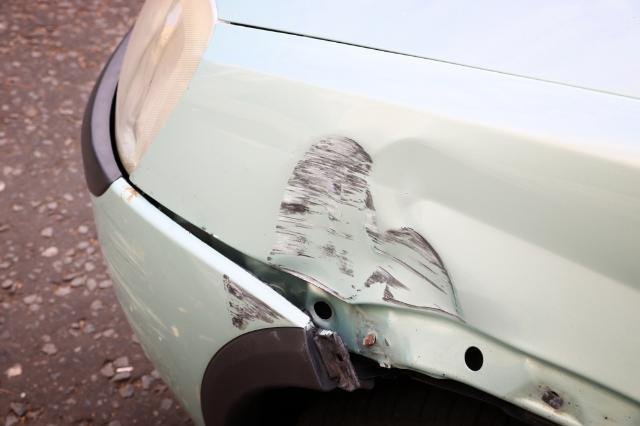dislocated part: (115, 175, 349, 331)
scratch: (268, 136, 461, 318), (107, 220, 176, 352), (219, 270, 285, 332)
